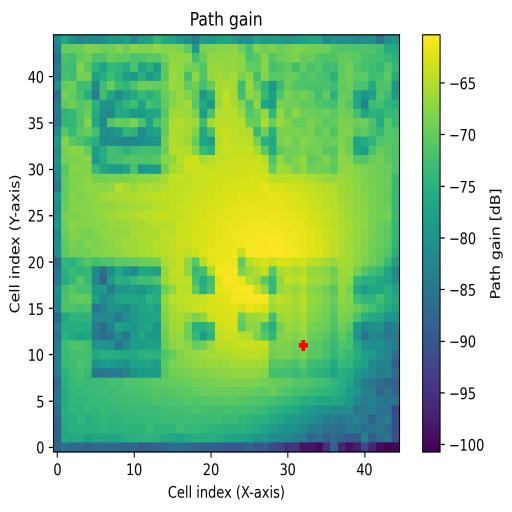Concrete: (268, 53, 338, 174)
Glass: (92, 52, 169, 173)
Metal: (268, 266, 338, 379)
Wood: (92, 266, 162, 379)
